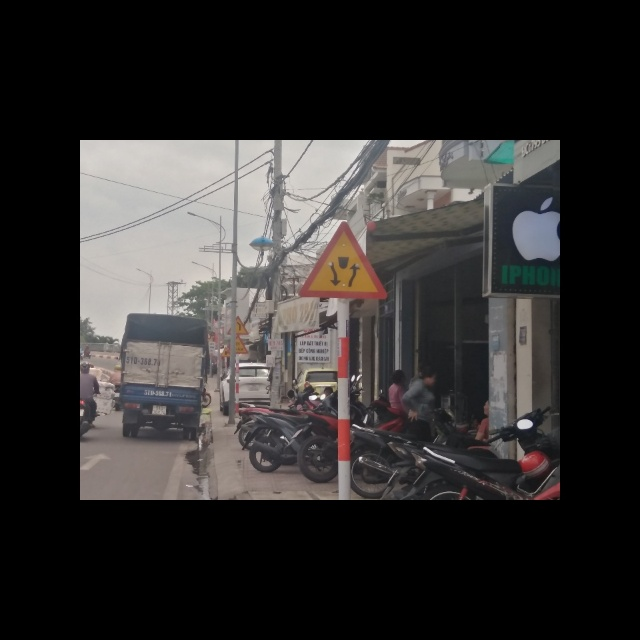Đường đôi: (298, 221, 387, 299)
